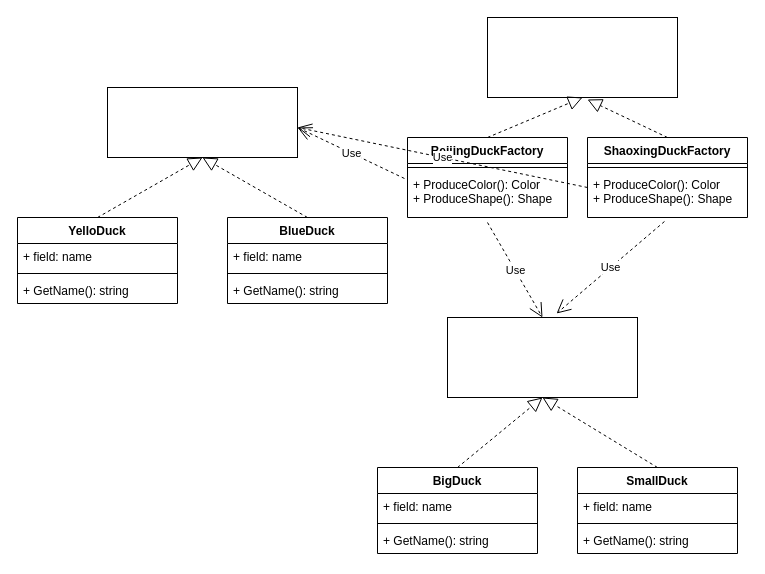
Image size: 765x574. Some labels were removed from this diagram. The shapes that lost their labels are listed below. From the top down, each one's box as (x1, y1, x2, y2) in pixels, then its label:
(486, 16, 678, 98): <<Interface>> DuckFactory + ProduceColor (): Color + ProduceShape(): Shape
(106, 86, 298, 158): <<Interface>> Color + GetName(): string
(446, 316, 638, 398): <<Interface>> Shape + GetName (): string
